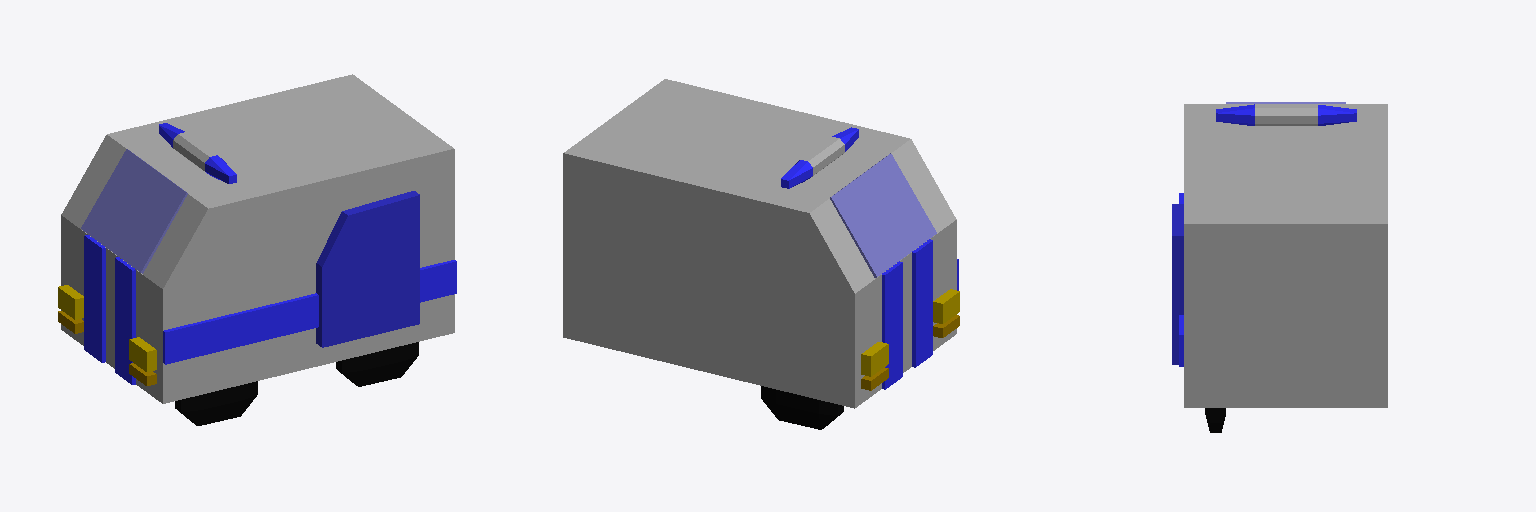
File: Police.obj
3 views of the same model, side by side, from view 1: azimuth 30°, elevation 25°; view 2: azimuth 150°, elevation 25°; view 3: azimuth 270°, elevation 25° (orthographic).
Visible parts, largest first — view 1: Cube_Cube.001, RightDoor_Cube.011, Cube.001_Cube.002, Cube.005, Cube.002_Cube, Cube.003, RightFrontWheel_Cube.012, RightBackWhell_Cube.014, Cube.006_Cube.009, RightFlash_Cube.004, LeftFlash_Cube.002, Cube.007_Cube.010; view 2: Cube_Cube.001, Cube.001_Cube.002, Cube.003, Cube.002_Cube, LeftFrontWheel_Cube.013, Cube.006_Cube.009, LeftFlash_Cube.002, RightFlash_Cube.004, Cube.008_Cube.011; view 3: Cube_Cube.001, RightDoor_Cube.011, Cube.006_Cube.009, Cube.007_Cube.010, Cube.008_Cube.011.
Boxes of the visible parts, x1=… form: Cube_Cube.001: x1=61, y1=74, x2=454, y2=403; RightDoor_Cube.011: x1=316, y1=191, x2=419, y2=347; Cube.001_Cube.002: x1=81, y1=149, x2=187, y2=273; Cube.005: x1=163, y1=260, x2=456, y2=364; Cube.002_Cube: x1=84, y1=235, x2=105, y2=362; Cube.003: x1=115, y1=257, x2=135, y2=384; RightFrontWheel_Cube.012: x1=175, y1=381, x2=257, y2=425; RightBackWhell_Cube.014: x1=336, y1=342, x2=418, y2=386; Cube.006_Cube.009: x1=173, y1=132, x2=216, y2=170; RightFlash_Cube.004: x1=129, y1=337, x2=156, y2=371; LeftFlash_Cube.002: x1=58, y1=285, x2=83, y2=319; Cube.007_Cube.010: x1=205, y1=155, x2=236, y2=183; Cube_Cube.001: x1=563, y1=79, x2=956, y2=408; Cube.001_Cube.002: x1=830, y1=153, x2=936, y2=277; Cube.003: x1=912, y1=239, x2=932, y2=367; Cube.002_Cube: x1=882, y1=261, x2=902, y2=389; LeftFrontWheel_Cube.013: x1=761, y1=386, x2=843, y2=429; Cube.006_Cube.009: x1=801, y1=137, x2=844, y2=176; LeftFlash_Cube.002: x1=861, y1=342, x2=888, y2=376; RightFlash_Cube.004: x1=933, y1=289, x2=959, y2=323; Cube.008_Cube.011: x1=781, y1=160, x2=812, y2=188; Cube_Cube.001: x1=1184, y1=104, x2=1387, y2=407; RightDoor_Cube.011: x1=1172, y1=204, x2=1183, y2=364; Cube.006_Cube.009: x1=1255, y1=104, x2=1317, y2=125; Cube.007_Cube.010: x1=1216, y1=104, x2=1254, y2=125; Cube.008_Cube.011: x1=1318, y1=105, x2=1356, y2=125.
Bounding box in the file's own units: 3.45 × 2.68 × 2.14.